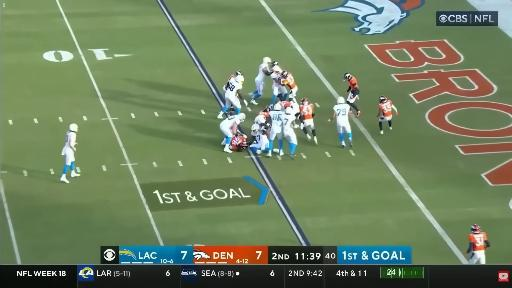Helmet: (251, 124, 259, 136), (471, 224, 480, 233), (235, 75, 244, 84), (343, 72, 351, 81), (251, 124, 259, 133), (337, 96, 345, 104), (272, 66, 281, 73), (70, 124, 78, 131), (285, 107, 293, 114), (274, 103, 282, 110), (301, 97, 308, 105), (281, 71, 288, 78), (242, 142, 249, 149), (379, 96, 387, 102), (263, 57, 271, 63), (239, 113, 245, 121), (263, 106, 270, 112), (235, 71, 242, 76), (271, 62, 278, 67)
Jersey: (469, 232, 487, 251), (334, 104, 350, 124), (226, 78, 242, 95), (270, 111, 284, 130), (221, 115, 241, 127), (283, 114, 295, 134), (256, 63, 269, 81), (230, 136, 246, 150), (282, 73, 296, 89), (379, 100, 392, 117), (300, 104, 314, 119), (271, 72, 285, 86), (65, 131, 76, 148), (254, 130, 266, 142), (349, 77, 358, 91), (226, 75, 234, 89), (280, 101, 291, 108), (259, 111, 269, 118)
Player: (218, 71, 244, 118), (329, 97, 352, 147), (61, 124, 79, 183), (250, 57, 271, 104), (220, 113, 245, 152), (466, 224, 489, 264), (377, 96, 398, 134), (300, 98, 317, 144), (268, 104, 283, 156), (343, 73, 360, 117), (283, 107, 297, 157), (271, 62, 287, 105), (250, 124, 269, 154), (281, 71, 297, 100), (277, 99, 299, 119), (289, 98, 299, 128), (230, 135, 248, 151), (255, 115, 270, 131), (259, 107, 271, 118)
